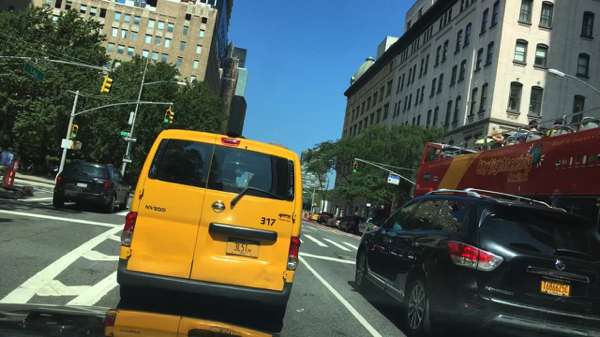bus: (412, 105, 599, 222)
car: (353, 188, 598, 337), (117, 129, 302, 319), (52, 159, 130, 214), (335, 214, 365, 234), (357, 219, 377, 235), (315, 212, 332, 226), (326, 216, 341, 228), (308, 212, 317, 223)
person: (0, 146, 15, 187)
traffic light: (100, 77, 113, 95), (70, 124, 78, 140), (164, 109, 171, 126), (169, 111, 175, 125), (352, 162, 358, 173)
traffic sign: (25, 62, 45, 85), (387, 174, 400, 186), (122, 153, 132, 164), (123, 137, 137, 144), (121, 131, 129, 137)
